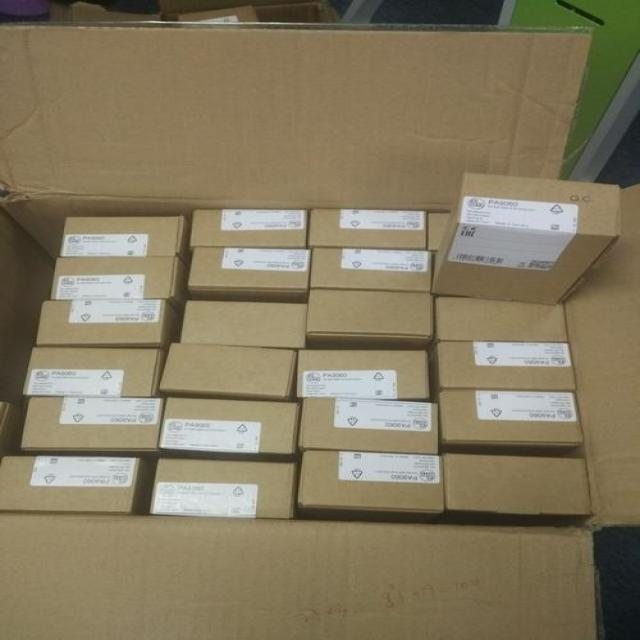box: (431, 172, 621, 305), (296, 450, 445, 513), (443, 453, 591, 515), (150, 458, 297, 519), (157, 396, 301, 454), (428, 342, 577, 397), (20, 396, 164, 452), (298, 397, 439, 454), (160, 343, 298, 401), (440, 391, 585, 446), (0, 457, 141, 513), (50, 256, 189, 311), (36, 298, 183, 347), (307, 289, 433, 346), (23, 347, 166, 396), (187, 247, 311, 300), (297, 350, 430, 399), (61, 216, 191, 266), (180, 300, 307, 349), (434, 297, 570, 342), (310, 248, 431, 291), (307, 208, 426, 249), (191, 208, 308, 248)
